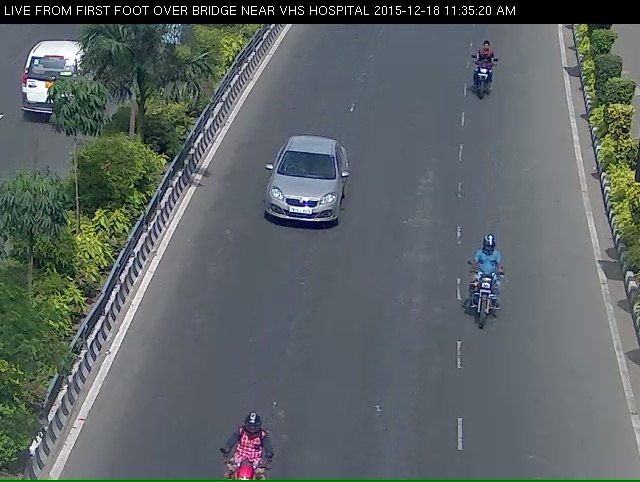Car: (247, 147, 357, 263)
Person: (467, 257, 508, 354), (470, 49, 501, 112)
